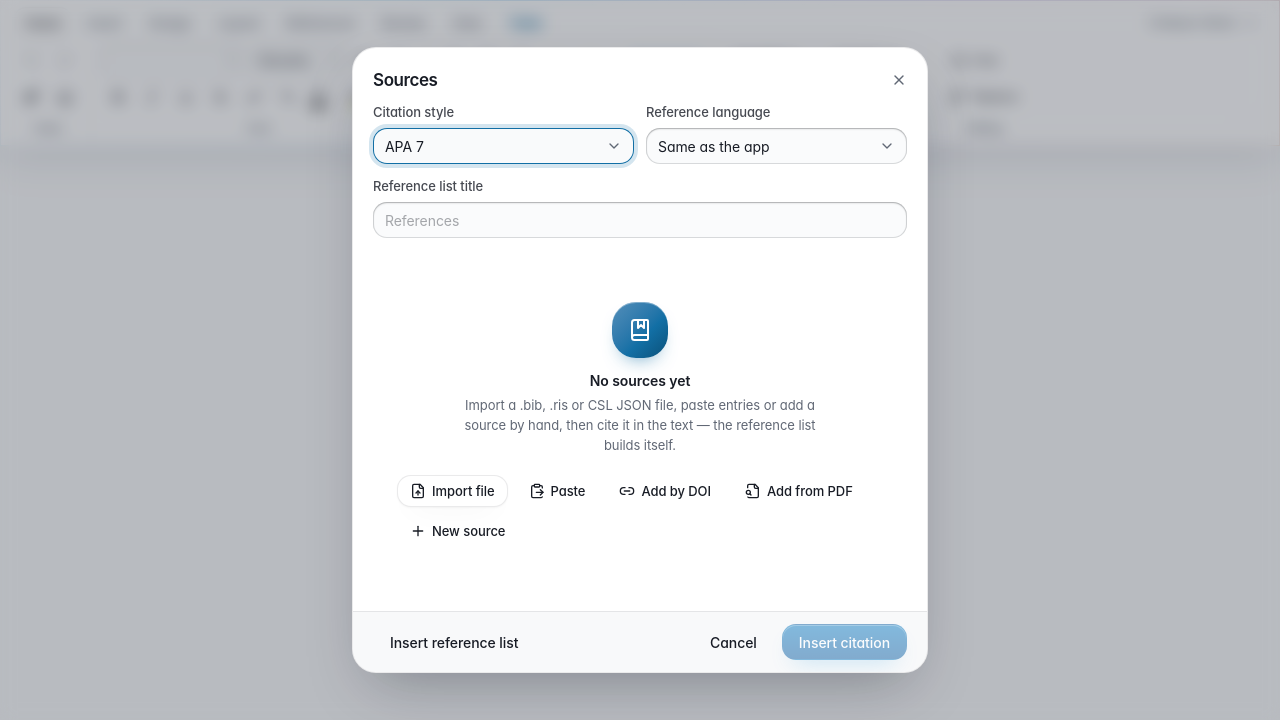
Scenario: DocumentToolbar sources › opens the Sources window when a source library was just loaded and clears the request on close
The width and height of the screenshot is (1280, 720).
Check: the dialog "Sources" is shown, box top-left (352, 47), bottom-right (928, 673)
Click the button named "Close".
click(899, 80)  # box top-left (885, 66), bottom-right (913, 94)
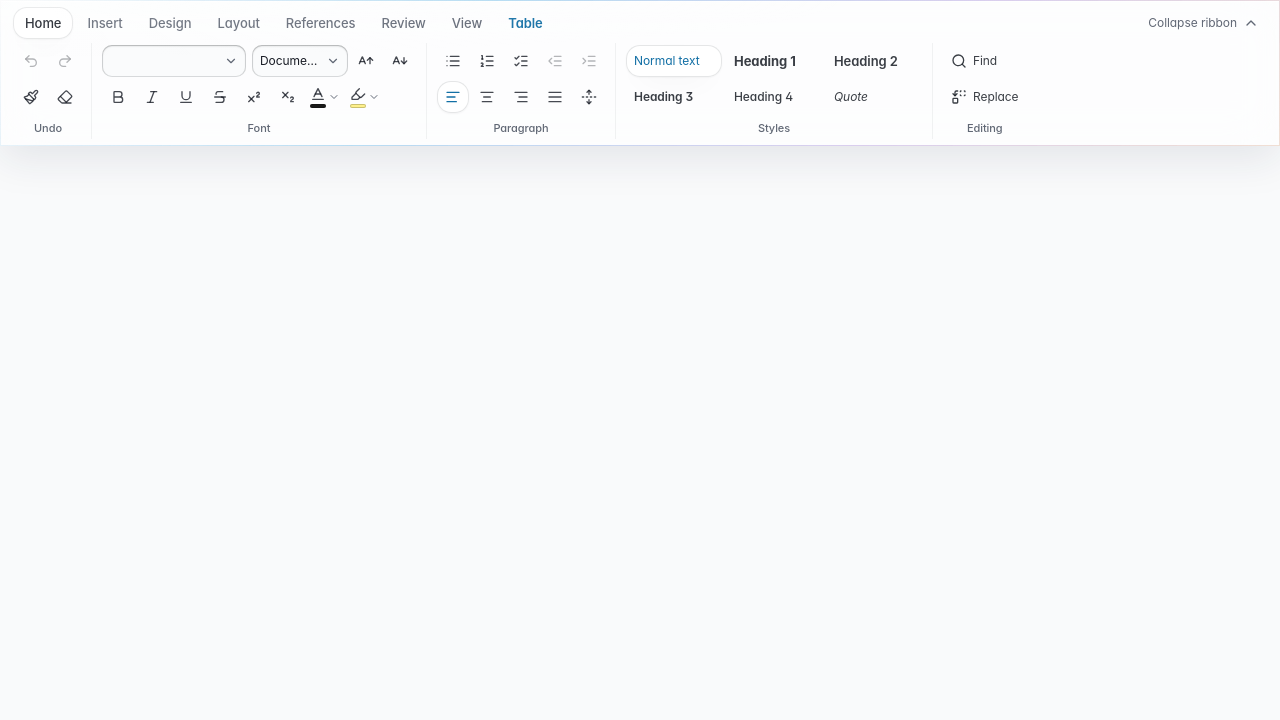
Check: the heading "Sources" is gone
